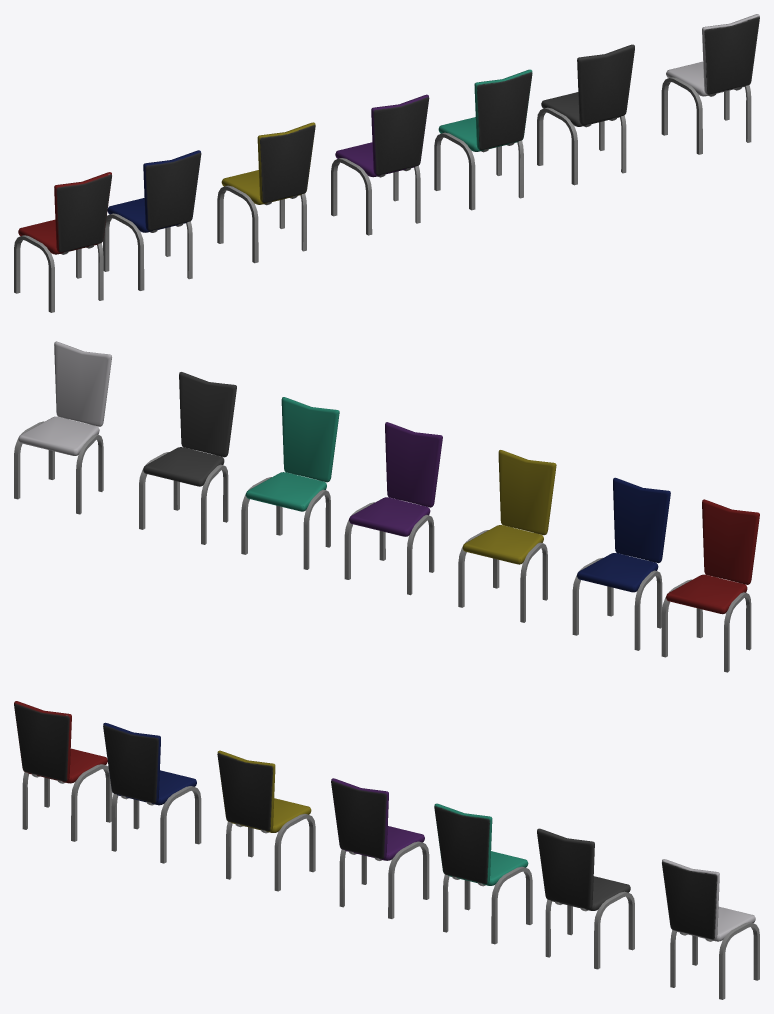
The model's file is Party Chairs.fbx.
The picture shows the model from 3 angles, top to bottom: view 1: azimuth 30°, elevation 25°; view 2: azimuth 150°, elevation 25°; view 3: azimuth 330°, elevation 25°; orthographic projection.
Parts seen in each view (by area): view 1: PartyChair_Yellow, PartyChair_Aqua, PartyChair_Red, PartyChair_Black, PartyChair_White, PartyChair_Purple, PartyChair_Blue; view 2: PartyChair_Aqua, PartyChair_Blue, PartyChair_Yellow, PartyChair_Purple, PartyChair_White, PartyChair_Black, PartyChair_Red; view 3: PartyChair_Aqua, PartyChair_Blue, PartyChair_Yellow, PartyChair_White, PartyChair_Black, PartyChair_Purple, PartyChair_Red.
Boxes of the visible parts, <box> form: PartyChair_Yellow: <box>217,122,315,263</box>; PartyChair_Aqua: <box>434,69,532,210</box>; PartyChair_Red: <box>14,172,111,312</box>; PartyChair_Black: <box>537,44,634,185</box>; PartyChair_White: <box>661,14,759,154</box>; PartyChair_Purple: <box>331,94,429,235</box>; PartyChair_Blue: <box>103,150,201,290</box>; PartyChair_Aqua: <box>241,397,339,569</box>; PartyChair_Blue: <box>572,477,670,650</box>; PartyChair_Yellow: <box>458,450,556,622</box>; PartyChair_Purple: <box>344,422,442,595</box>; PartyChair_White: <box>14,341,111,514</box>; PartyChair_Black: <box>139,372,236,544</box>; PartyChair_Red: <box>661,499,759,672</box>; PartyChair_Aqua: <box>434,803,532,944</box>; PartyChair_Blue: <box>103,722,201,863</box>; PartyChair_Yellow: <box>217,750,315,891</box>; PartyChair_White: <box>662,859,759,999</box>; PartyChair_Black: <box>537,828,634,969</box>; PartyChair_Purple: <box>331,778,429,918</box>; PartyChair_Red: <box>14,701,112,841</box>.
Size of the model in its own units: 52.38 by 4.82 by 9.25.
